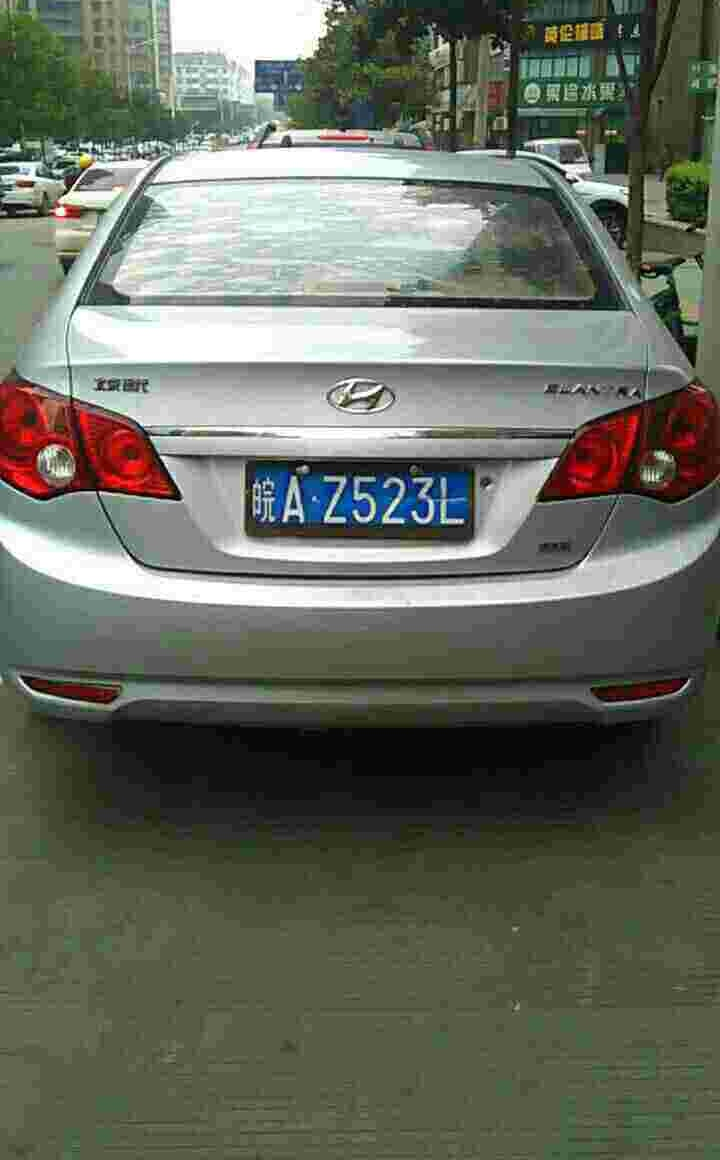license_plate: (244, 456, 464, 528)
